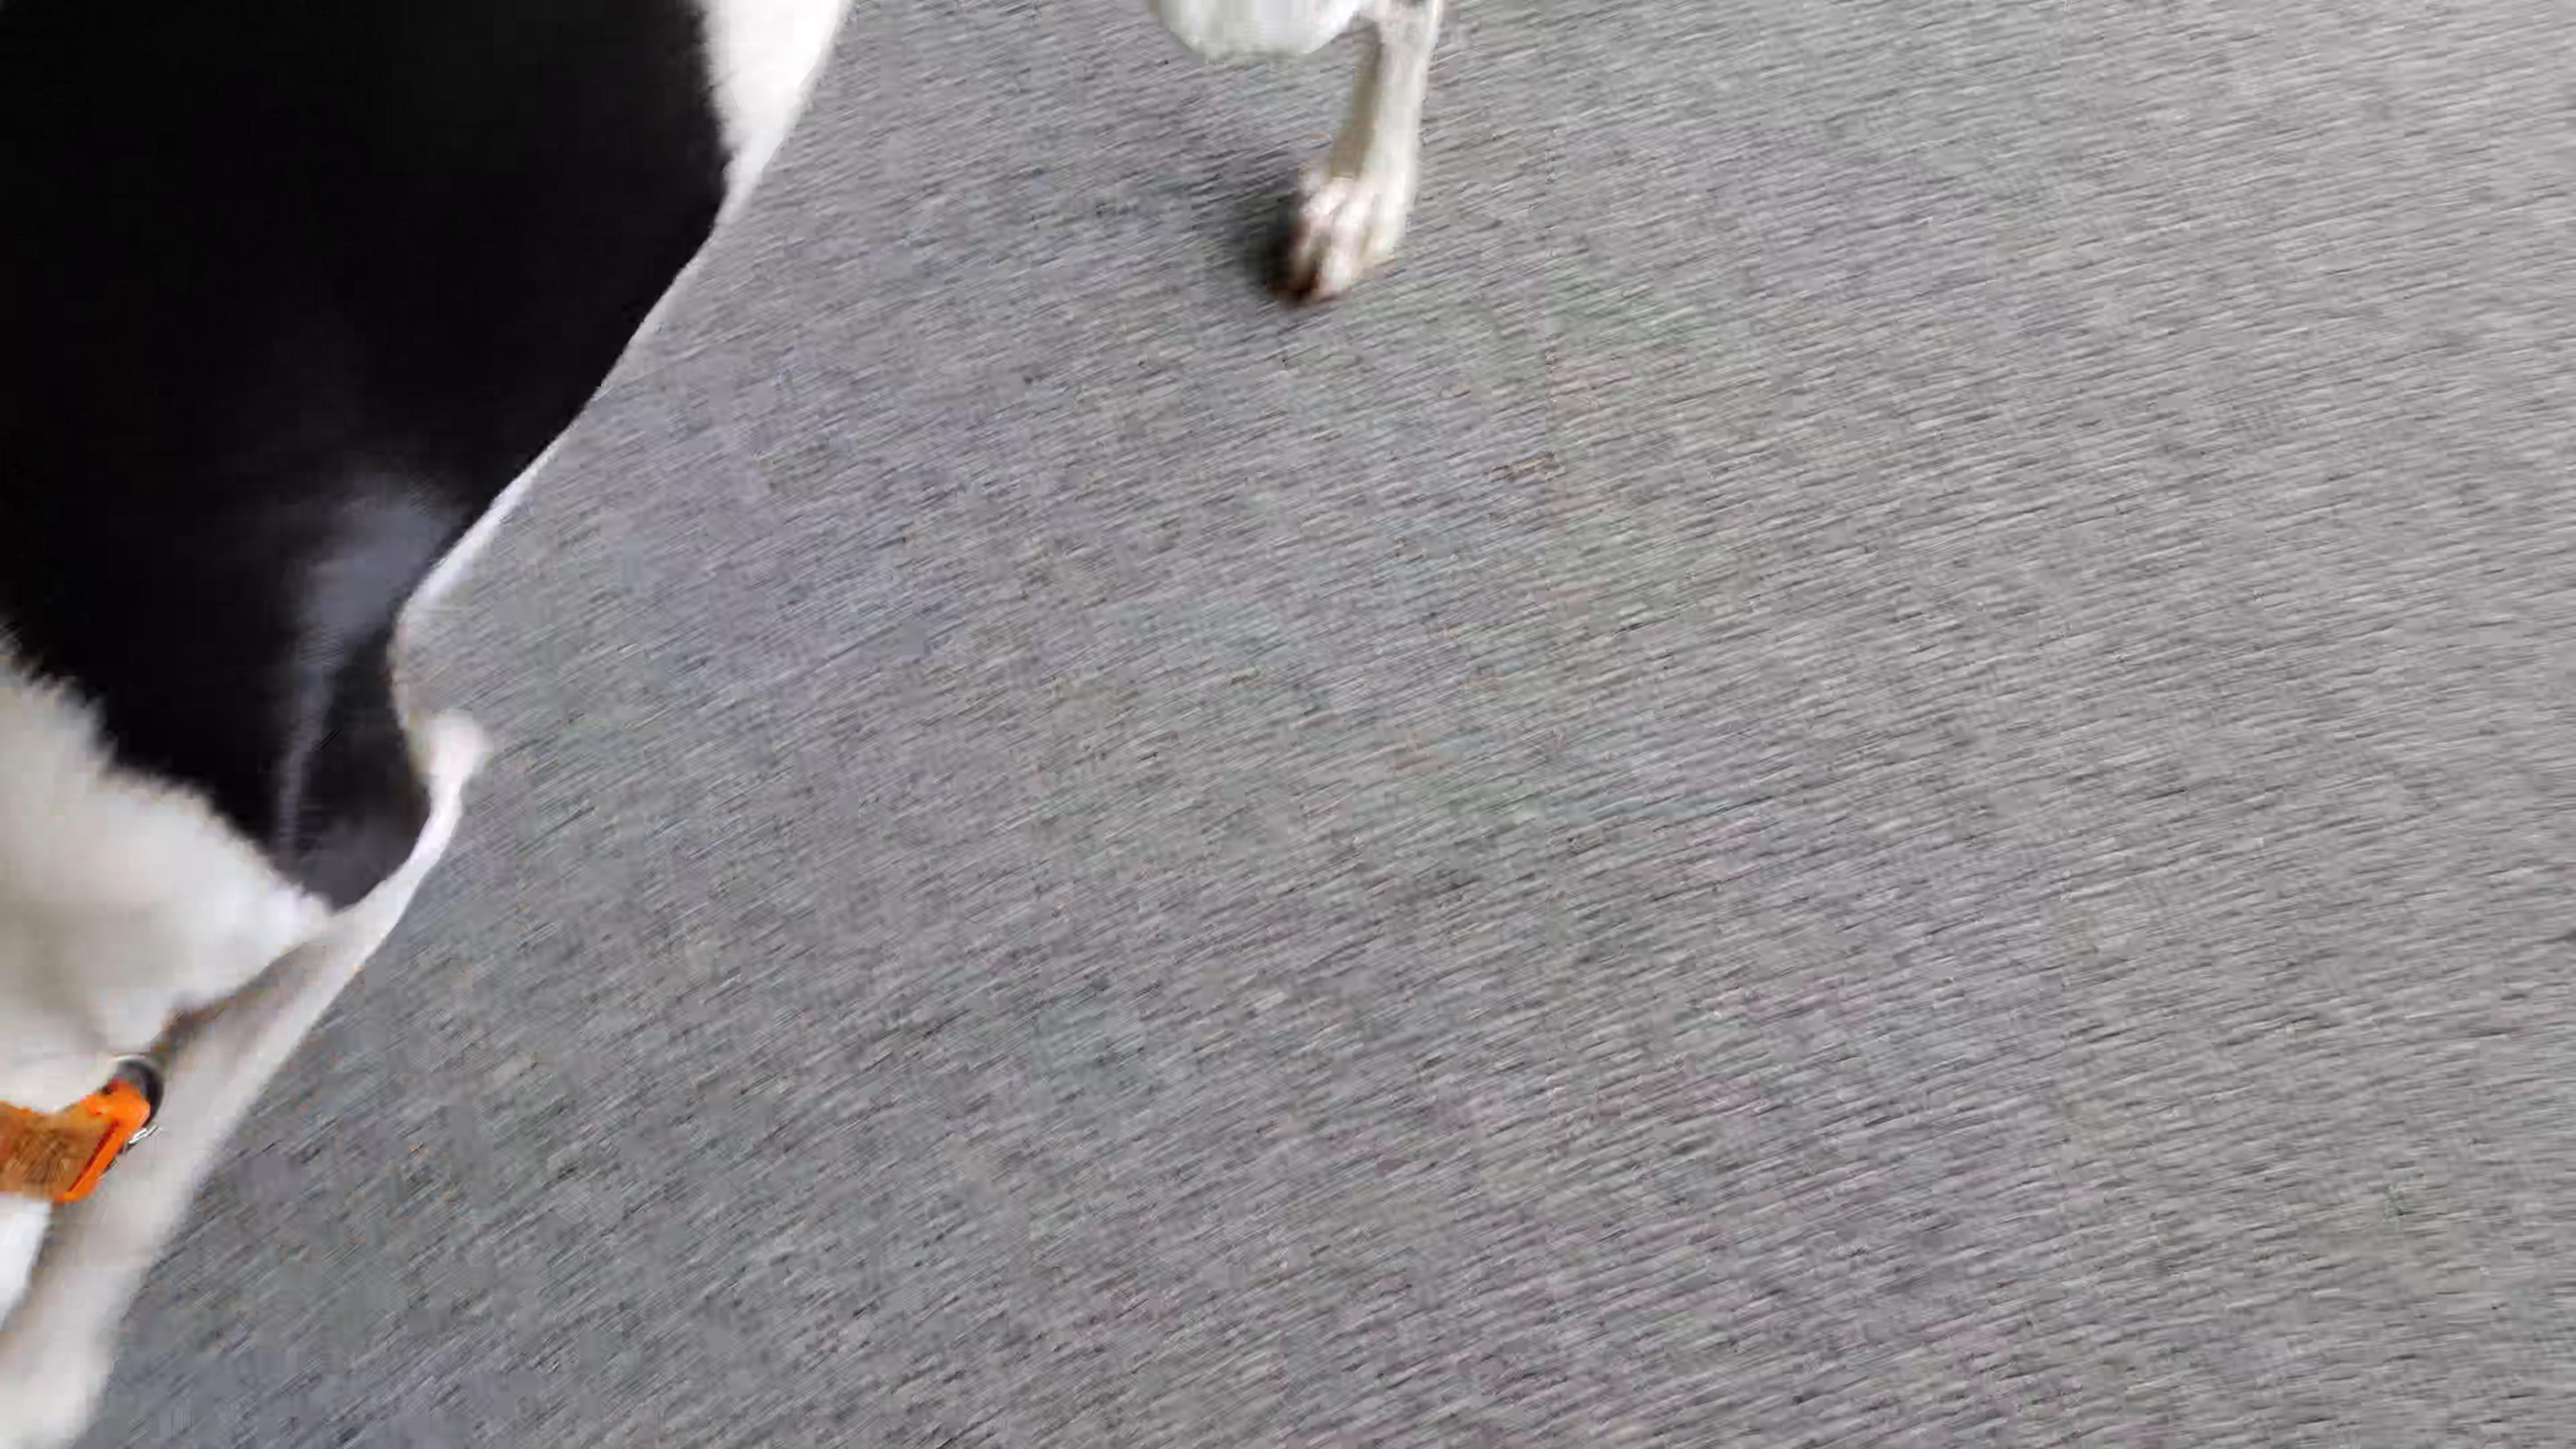Dog: (0, 0, 1456, 1449)
